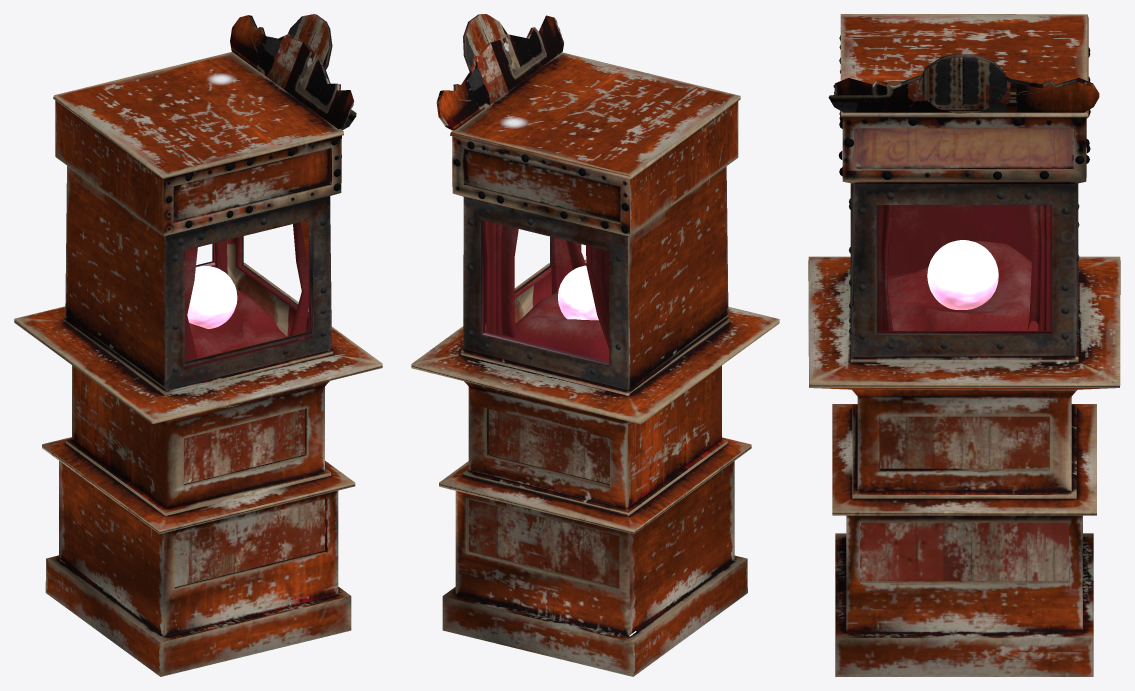
File: Circus stuff machine 10.fbx
3 renders of one model, left to right at view 1: azimuth 30°, elevation 25°; view 2: azimuth 150°, elevation 25°; view 3: azimuth 270°, elevation 25°, orthographic. The views are drawn at different scales.
Visible parts, largest first — view 1: polySurface12354; view 2: polySurface12354; view 3: polySurface12354.
Boxes of the visible parts, <box> form: polySurface12354: <box>14,14,382,676</box>; polySurface12354: <box>411,14,779,676</box>; polySurface12354: <box>808,14,1120,676</box>.
Bounding box in the file's own units: 89.52 × 203 × 90.2.
